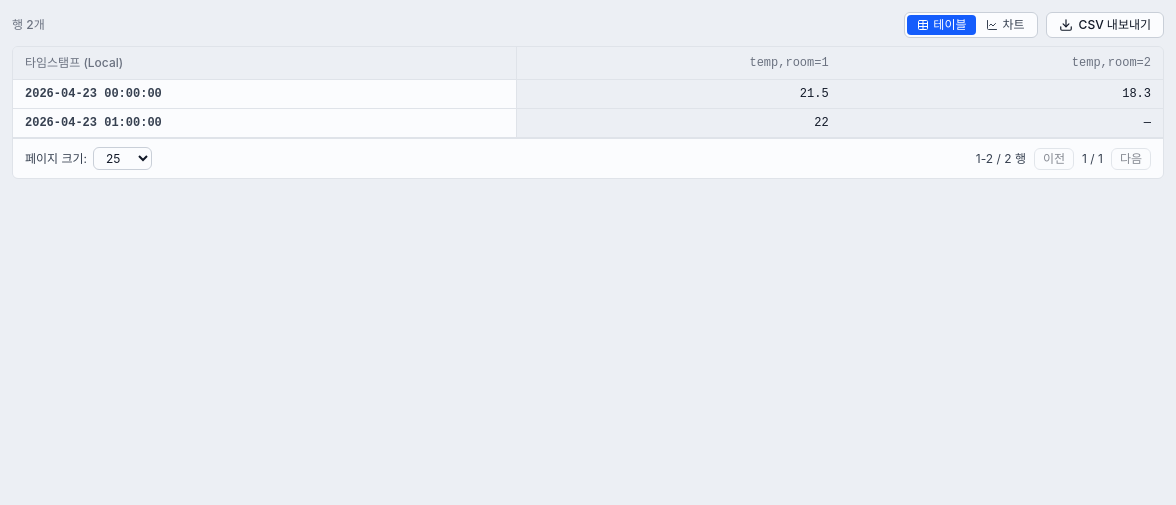
Scenario: SeriesResultMatrix: 페이지네이션 › 차트 탭 클릭 시 차트가 노출되고 테이블/페이지네이션은 사라진다
The width and height of the screenshot is (1176, 505).
Click the tab with test id "tsdb-result-view-chart" at (1006, 25), box [976,15,1035,35]
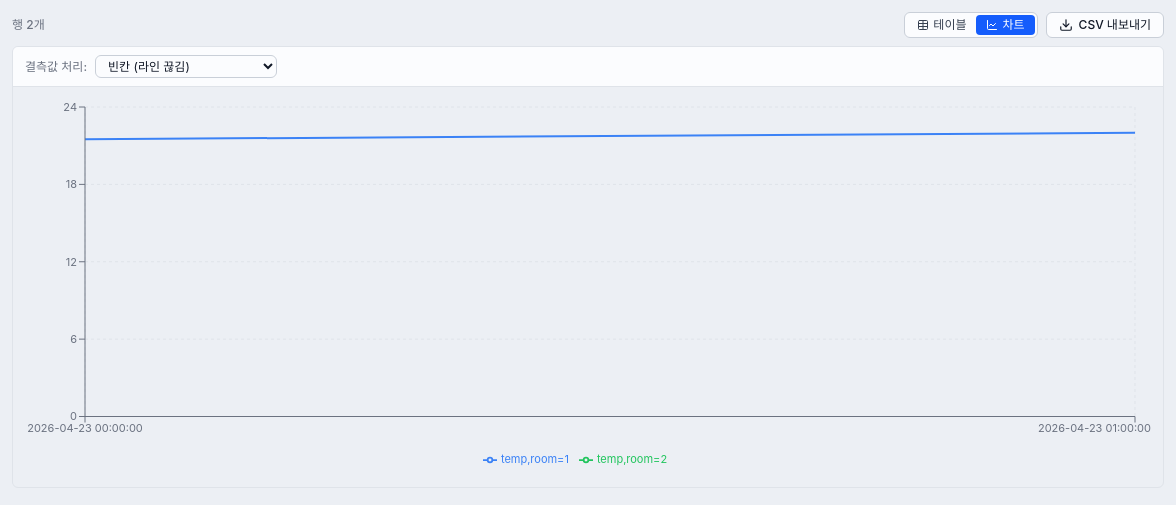
Result: the element with test id "tsdb-result-chart" is shown
Result: the table is gone
Result: the element with test id "tsdb-result-pagination" is gone
